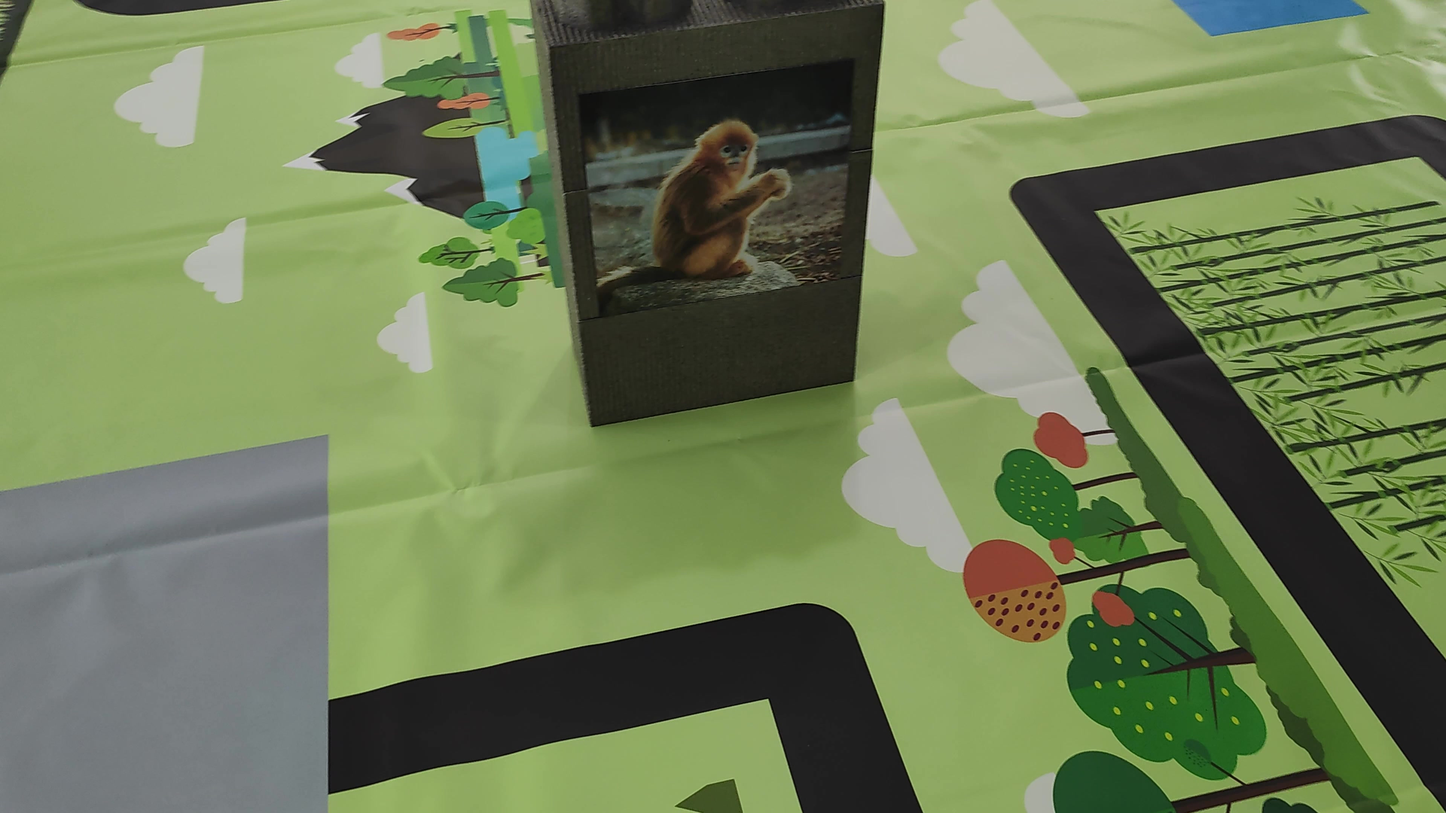monkey: (604, 81, 817, 321)
